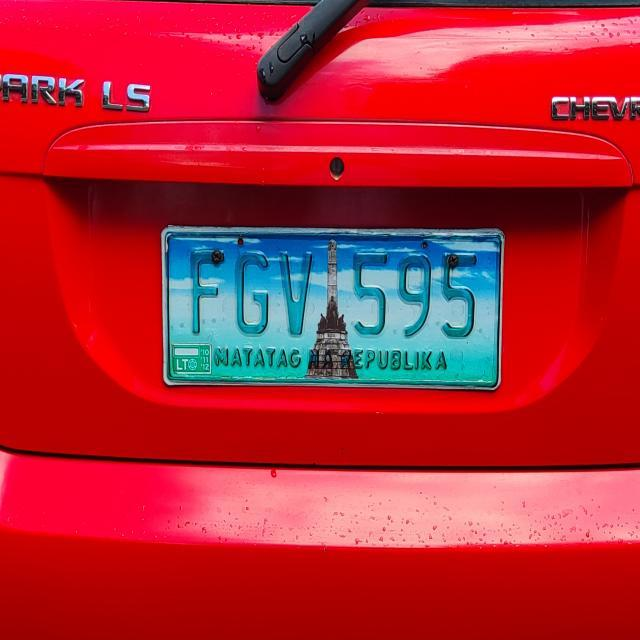LicensePlate: (137, 210, 525, 398)
